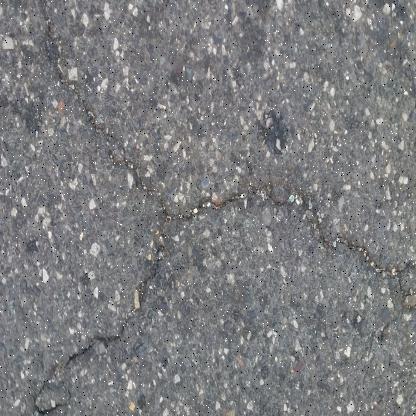Cracks: (32, 174, 415, 415), (35, 0, 174, 221)
